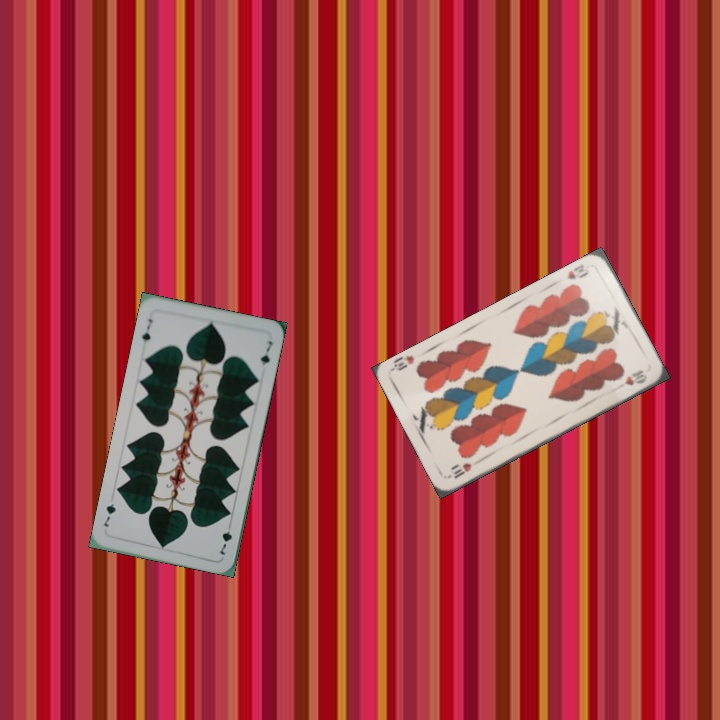G7: (216, 518, 235, 557), (138, 314, 155, 349)
H10: (563, 260, 593, 282), (449, 459, 474, 481)
